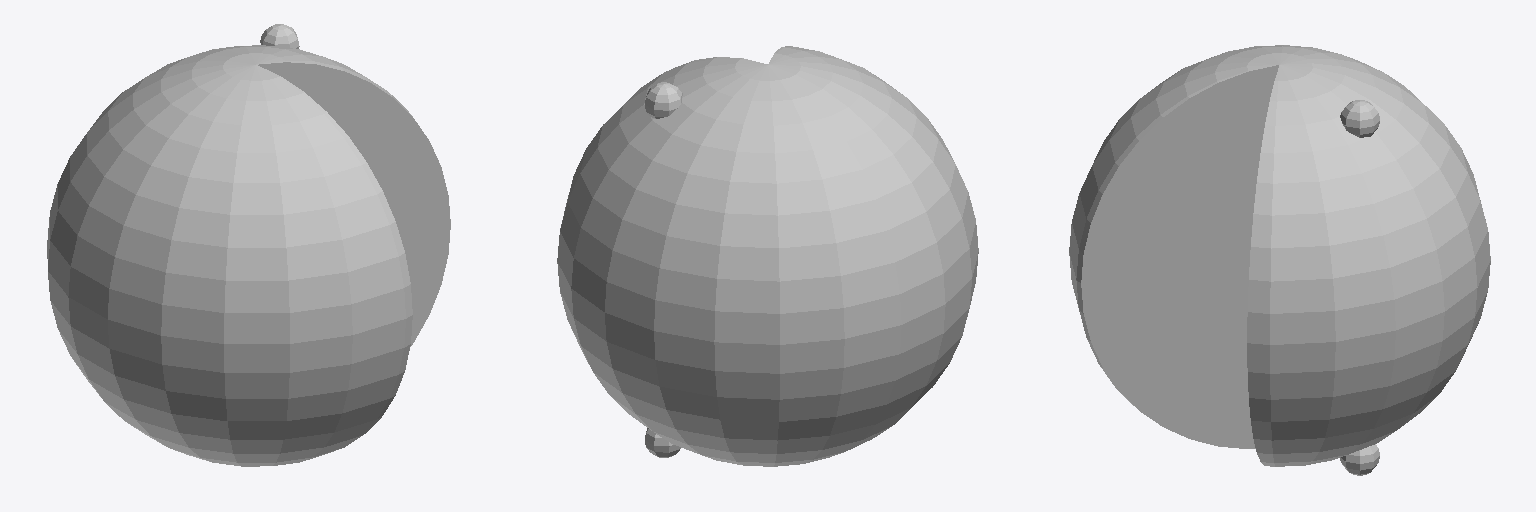
Rendered from chidouren.obj.
3 views of the same model, side by side, from view 1: azimuth 30°, elevation 25°; view 2: azimuth 150°, elevation 25°; view 3: azimuth 270°, elevation 25° (orthographic).
Visible parts, largest first — view 1: polySurface1 group1, group1 pSphere2; view 2: polySurface1 group1, group1 pSphere2, group1 pSphere3; view 3: polySurface1 group1, group1 pSphere2, group1 pSphere3.
Part boxes in pixels (left/top/right/bottom): polySurface1 group1: left=47, top=45, right=450, bottom=466; group1 pSphere2: left=260, top=24, right=299, bottom=48; polySurface1 group1: left=557, top=46, right=978, bottom=466; group1 pSphere2: left=645, top=82, right=682, bottom=118; group1 pSphere3: left=645, top=428, right=680, bottom=457; polySurface1 group1: left=1069, top=45, right=1490, bottom=466; group1 pSphere2: left=1340, top=100, right=1379, bottom=137; group1 pSphere3: left=1340, top=444, right=1379, bottom=475.
Size of the model in its own units: 5.91 by 5.92 by 5.91.